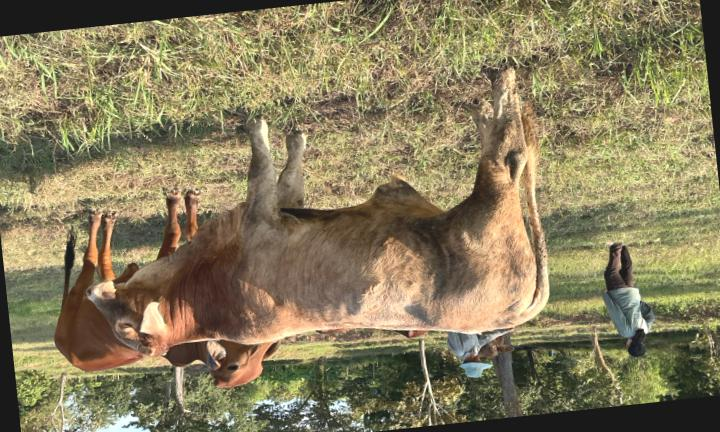Charolais: (86, 69, 548, 357)
